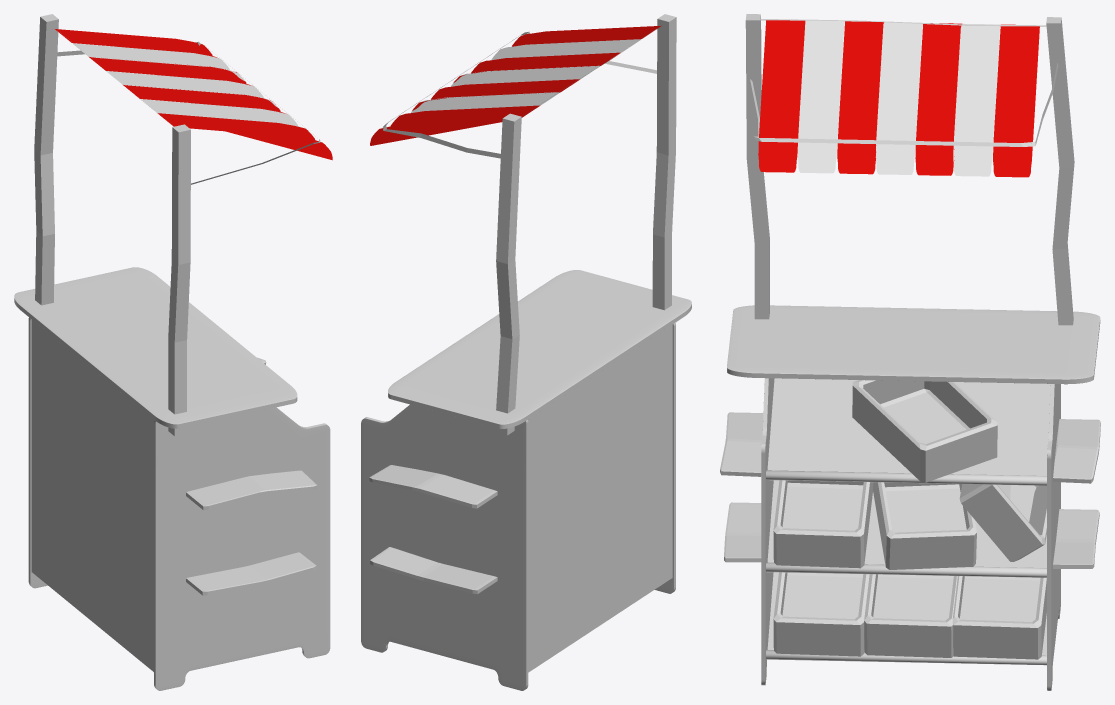
Rendered from LemonadeStand_v1.fbx.
3 views of the same model, side by side, from view 1: azimuth 30°, elevation 25°; view 2: azimuth 150°, elevation 25°; view 3: azimuth 270°, elevation 25° (orthographic). The views are drawn at different scales.
Parts seen in each view (by area): view 1: Cube.022, Cube.023, Cube.029, Cube.030, Cube.031, Plane.012, Cube.025, Cube.026, Plane.007, Plane.009, Plane.005, Plane.011 (+3 smaller); view 2: Cube.023, Cube.024, Cube.029, Cube.031, Cube.030, Plane.005, Cube.028, Cube.027, Plane.008, Plane.011, Plane.012, Plane.010 (+4 smaller); view 3: Cube.029, Plane.016, Cube.038, Cube.035, Cube.036, Cube.032, Cube.034, Cube.033, Plane.011, Plane.012, Plane.009, Plane.007 (+17 smaller).
Boxes of the visible parts, x1,y1,x2,y2 form: Cube.022: (154, 407, 330, 690); Cube.023: (31, 320, 153, 671); Cube.029: (14, 267, 297, 428); Cube.030: (168, 124, 190, 436); Cube.031: (34, 14, 58, 305); Plane.012: (157, 113, 332, 160); Cube.025: (186, 552, 316, 595); Cube.026: (186, 470, 317, 510); Plane.007: (72, 43, 244, 80); Plane.009: (106, 71, 277, 107); Plane.005: (55, 29, 217, 57); Plane.011: (140, 99, 302, 127); Cube.023: (528, 324, 672, 672); Cube.024: (361, 404, 528, 690); Cube.029: (388, 270, 691, 428); Cube.031: (495, 113, 521, 435); Cube.030: (652, 14, 676, 310); Plane.005: (370, 105, 540, 145); Cube.028: (369, 465, 497, 508); Cube.027: (370, 547, 497, 594); Plane.008: (412, 79, 580, 110); Plane.011: (480, 39, 640, 62); Plane.012: (512, 25, 661, 46); Plane.010: (453, 52, 620, 82); Cube.029: (727, 305, 1100, 384); Plane.016: (767, 378, 1050, 475); Cube.038: (852, 380, 997, 482); Cube.035: (773, 480, 873, 568); Cube.036: (873, 482, 976, 569); Cube.032: (773, 572, 869, 656); Cube.034: (952, 576, 1046, 659); Cube.033: (864, 574, 957, 657); Plane.011: (797, 20, 844, 173); Plane.012: (758, 20, 805, 172); Plane.009: (875, 22, 922, 174); Plane.007: (953, 23, 1000, 176).
Size of the model in its own units: 600 by 1728 by 1002.
